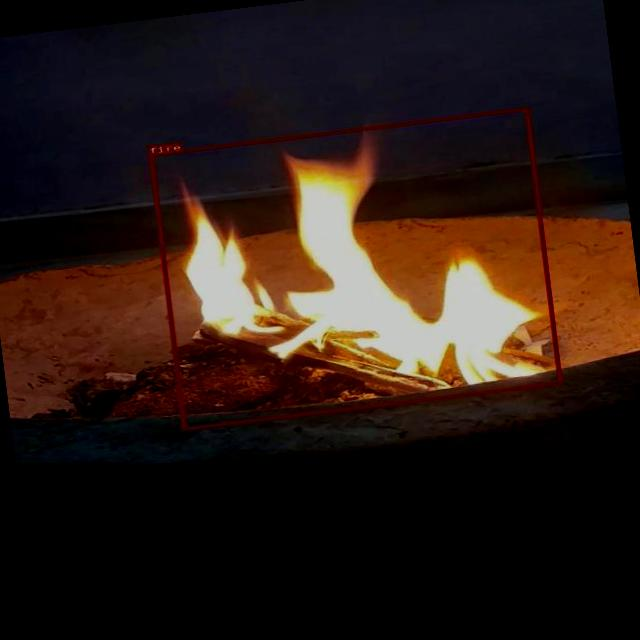fire: (148, 107, 562, 430)
